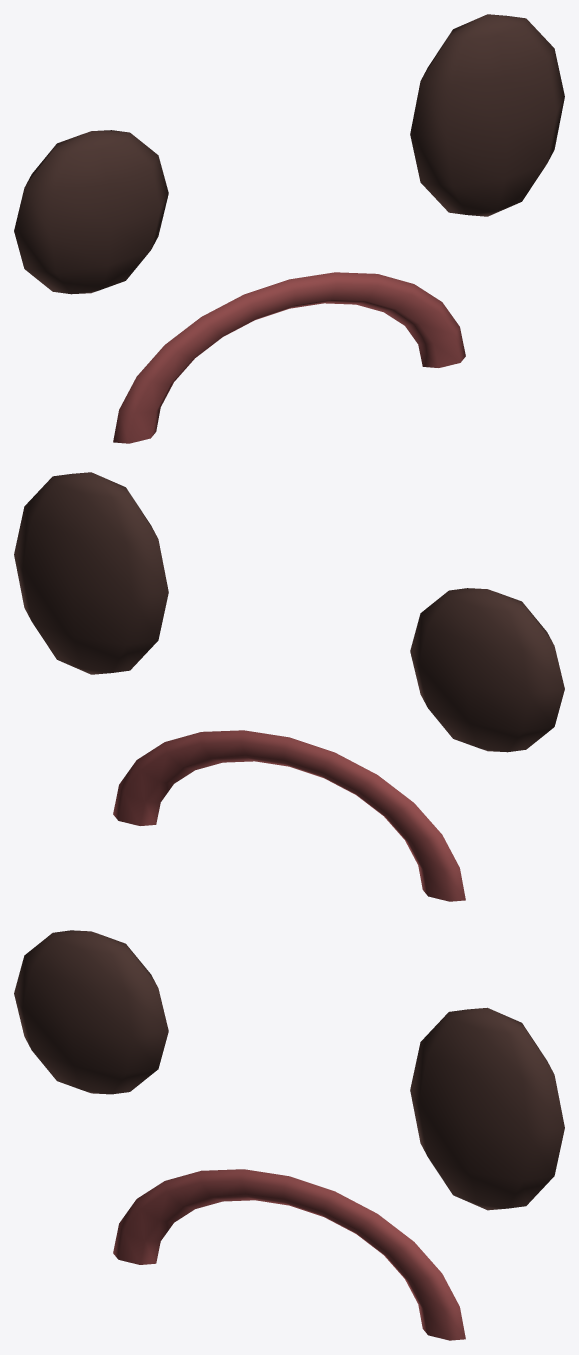
File: kind_face.glb
3 renders of one model, top to bottom at view 1: azimuth 30°, elevation 25°; view 2: azimuth 150°, elevation 25°; view 3: azimuth 330°, elevation 25°, orthographic.
Parts seen in each view (by area): view 1: eye_r, eye_l, mouth; view 2: eye_r, eye_l, mouth; view 3: eye_r, eye_l, mouth.
Boxes of the visible parts, <box> form: eye_r: <box>410,14,564,216</box>; eye_l: <box>14,130,168,294</box>; mouth: <box>113,272,465,443</box>; eye_r: <box>14,472,168,674</box>; eye_l: <box>410,588,564,752</box>; mouth: <box>113,730,465,901</box>; eye_r: <box>410,1007,564,1210</box>; eye_l: <box>14,930,168,1094</box>; mouth: <box>113,1169,465,1340</box>.
Bounding box in the file's own units: 0.306 × 0.1788 × 0.0387.
